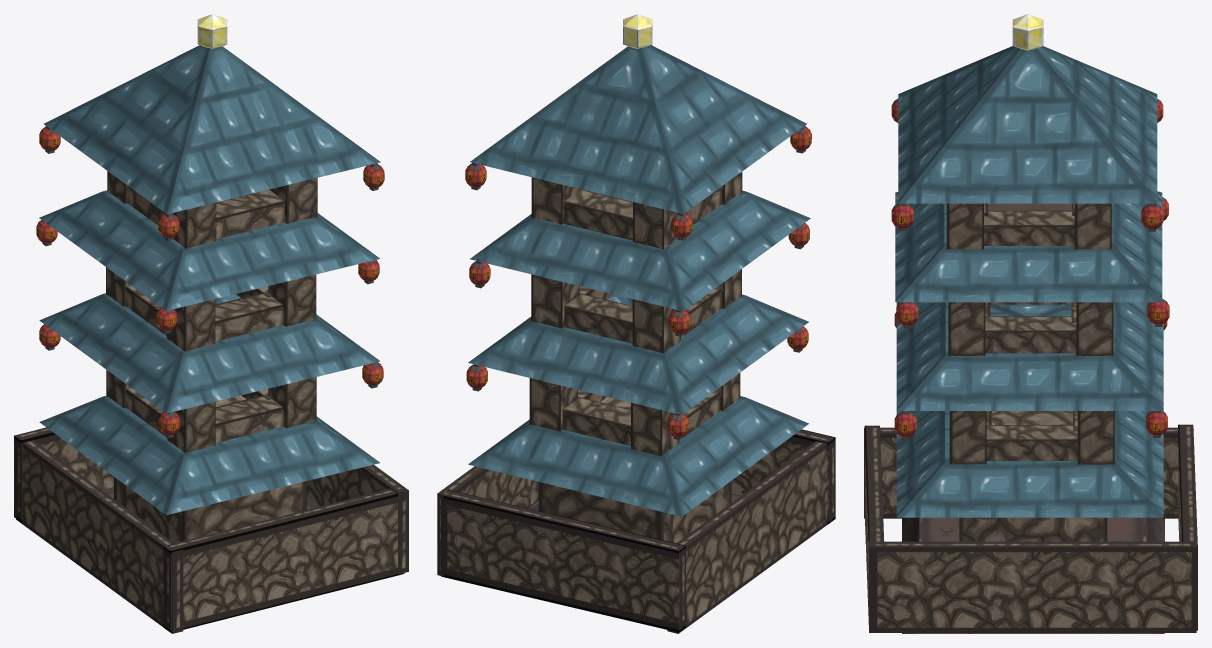
Rendered from sniper tower upgrade 2 .fbx.
The picture shows the model from 3 angles, left to right: view 1: azimuth 30°, elevation 25°; view 2: azimuth 150°, elevation 25°; view 3: azimuth 270°, elevation 25°; orthographic projection. The views are drawn at different scales.
Visible parts, largest first — view 1: boven dak, Cube.2, dak 2 .2, dak 1, dak 2, Cube, eerste verdieping, Cube.3, Cube.1, Cube.12, Cube.11, Cube.11.2 (+11 smaller); view 2: boven dak, Cube.1, dak 2 .2, dak 2, dak 1, Cube, eerste verdieping, Cube.3, Cube.2, Cube.15, Cube.14, Cube.14.2 (+12 smaller); view 3: boven dak, Cube.3, dak 2 .2, dak 1, dak 2, eerste verdieping, Cube.9, Cube.9.2, Cube.13, base, Cube, Cube.1 (+15 smaller).
Boxes of the visible parts, x1,y1,x2,y2 form: boven dak: (44, 45, 380, 214); Cube.2: (163, 488, 404, 632); dak 2 .2: (39, 293, 379, 413); dak 1: (39, 395, 379, 515); dak 2: (39, 190, 379, 310); Cube: (16, 440, 183, 633); eerste verdieping: (114, 395, 306, 543); Cube.3: (307, 464, 408, 574); Cube.1: (14, 427, 113, 522); Cube.12: (216, 189, 284, 238); Cube.11: (215, 293, 283, 341); Cube.11.2: (215, 395, 283, 442); boven dak: (470, 45, 806, 214); Cube.1: (441, 489, 685, 632); dak 2 .2: (468, 294, 808, 414); dak 2: (470, 190, 810, 311); dak 1: (468, 396, 808, 516); Cube: (667, 441, 827, 633); eerste verdieping: (538, 397, 731, 543); Cube.3: (437, 466, 538, 575); Cube.2: (731, 429, 835, 524); Cube.15: (563, 189, 632, 240); Cube.14: (564, 293, 632, 343); Cube.14.2: (562, 396, 630, 445); boven dak: (898, 46, 1157, 203); Cube.3: (869, 541, 1196, 632); dak 2 .2: (896, 302, 1163, 410); dak 1: (896, 411, 1163, 517); dak 2: (895, 191, 1162, 302); eerste verdieping: (959, 411, 1107, 541); Cube.9: (985, 316, 1076, 353); Cube.9.2: (986, 425, 1077, 460); Cube.13: (984, 210, 1074, 245); base: (902, 517, 1164, 633); Cube: (864, 427, 1178, 518); Cube.1: (1178, 424, 1197, 630).
Bounding box in the file's own units: 393 × 839 × 451.
Materials: 48 (48 with a texture image).
